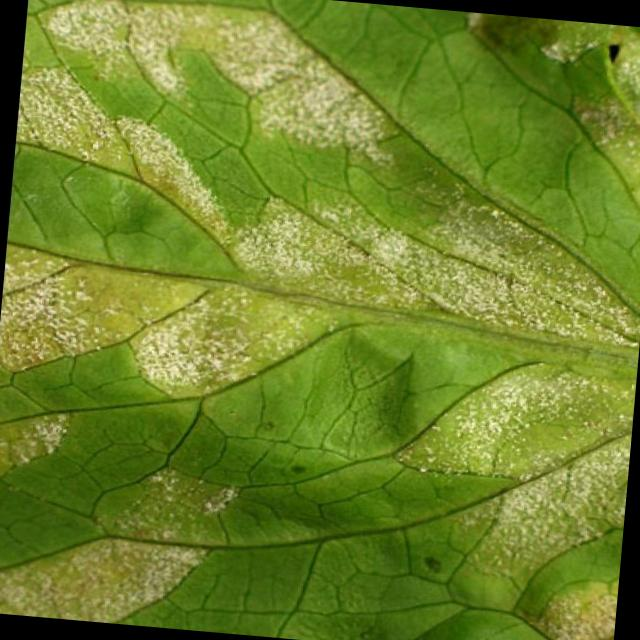Powdery_mildew_on_lettuce: (0, 0, 415, 415)
